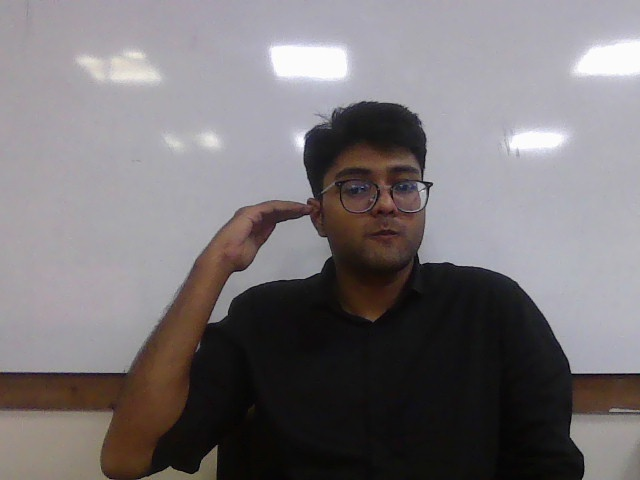Prottibondhi: (213, 198, 320, 273)
